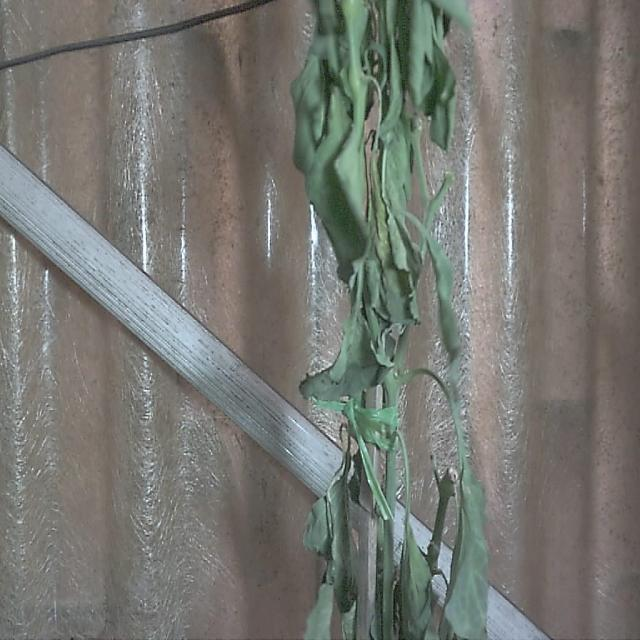Leaf: (306, 81, 372, 289), (446, 463, 491, 640)
